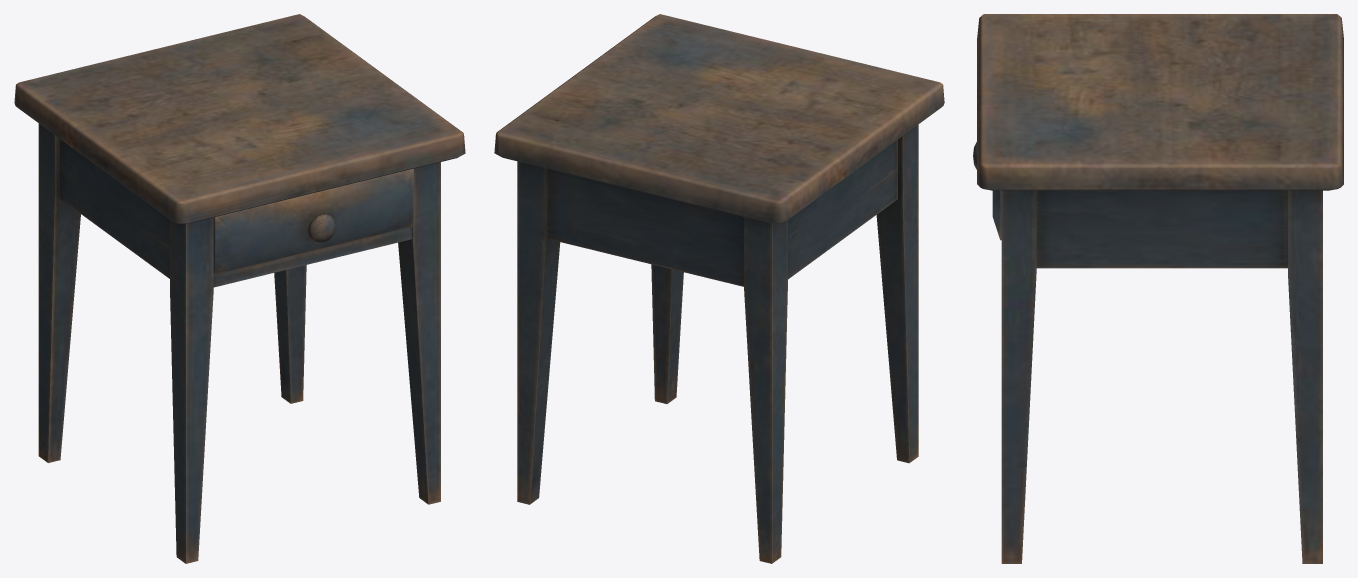
3 views of the same model, side by side, from view 1: azimuth 30°, elevation 25°; view 2: azimuth 150°, elevation 25°; view 3: azimuth 270°, elevation 25° (orthographic). The views are drawn at different scales.
Visible parts, largest first — view 1: painted_wooden_nightstand, painted_wooden_nightstand_drawer; view 2: painted_wooden_nightstand; view 3: painted_wooden_nightstand, painted_wooden_nightstand_drawer.
Part boxes in pixels (x1,y1,x2,y2): painted_wooden_nightstand: [14, 14, 465, 563]; painted_wooden_nightstand_drawer: [213, 168, 413, 274]; painted_wooden_nightstand: [494, 14, 944, 563]; painted_wooden_nightstand: [977, 14, 1343, 563]; painted_wooden_nightstand_drawer: [973, 142, 1001, 240].
Size of the model in its own units: 0.5046 by 0.6155 by 0.5087.
Materials: 1 (1 with a texture image).
